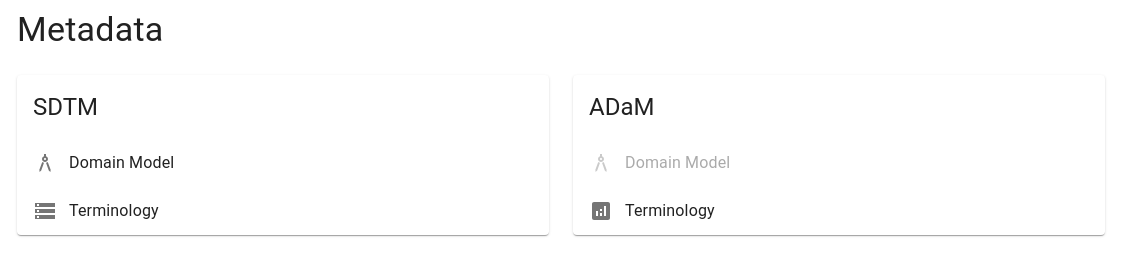
Test: MetadataPage › shows the Coming soon tooltip on the Domain Model rows
Hover over the element named "coming soon" at (104,163), box [33,151,174,175]
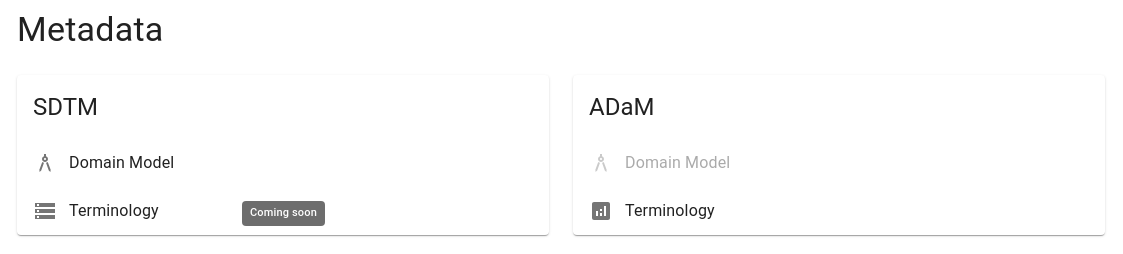
Expected: the tooltip "Coming soon" is shown, [240,187,327,228]
